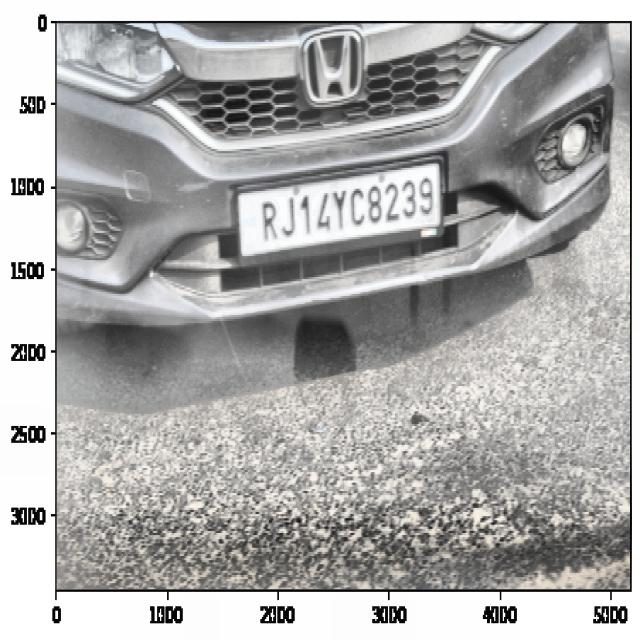license_plate: (248, 171, 436, 242)
